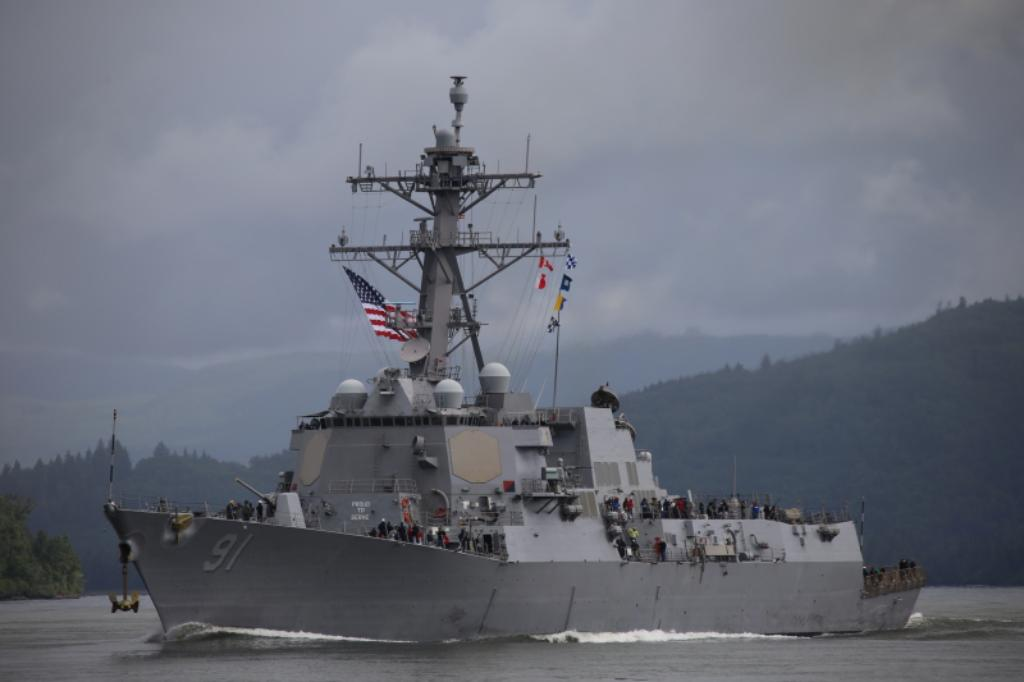Warship: (103, 66, 929, 652)
